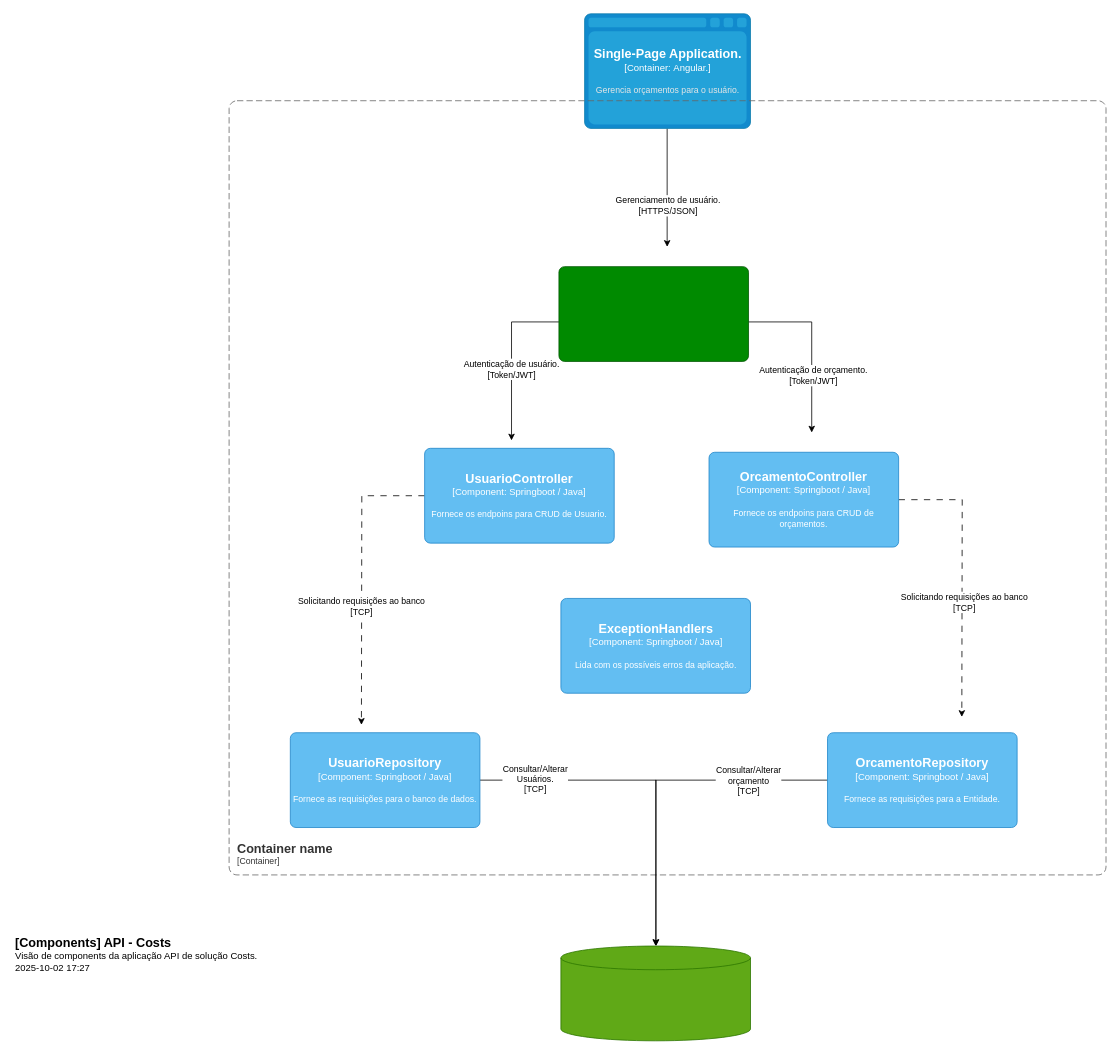
Some shapes in this 1119 by 1055 pixel diagram are drawn without their labels. Each missing label, with the centre of its shape:
AuthController [Component: Springboot / Java] Fornece autenticação de usuário.: point (653, 313)
Banco de Dados Relacional [Container: SQL] Armazena orçamentos.: point (655, 993)
